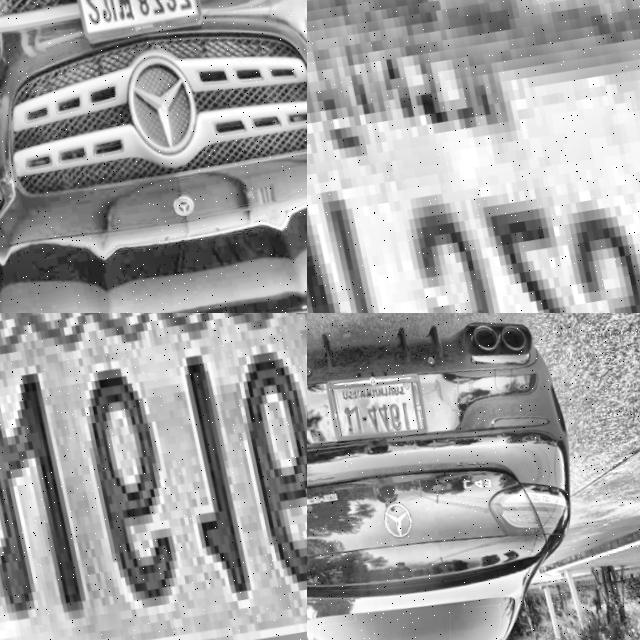license-plate: (307, 0, 640, 313), (0, 313, 307, 640), (318, 361, 429, 450), (63, 0, 202, 41)
